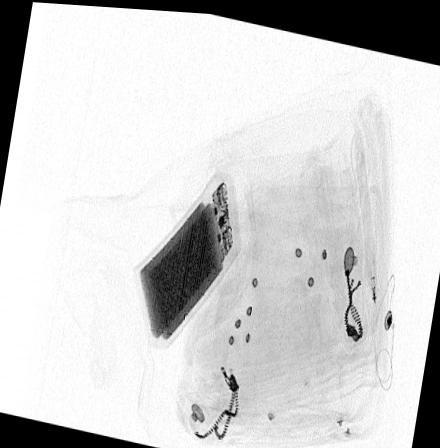Powerbank: (133, 167, 241, 345)
